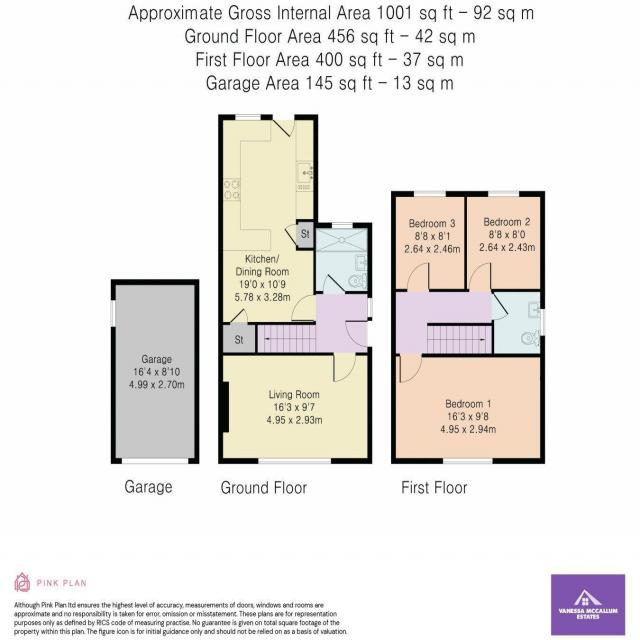DOOR: (344, 319, 372, 348), (332, 352, 357, 383), (399, 353, 423, 383), (468, 262, 492, 292), (406, 262, 430, 292), (291, 294, 316, 322), (271, 114, 295, 138), (491, 293, 509, 321), (322, 273, 346, 294)
ROOM: (218, 114, 319, 326), (218, 352, 373, 464), (391, 353, 546, 464), (464, 191, 545, 292), (391, 191, 467, 292)
WINDOW: (257, 457, 332, 465), (442, 457, 493, 465), (487, 190, 520, 198), (413, 190, 446, 197), (234, 114, 261, 121), (540, 308, 546, 337), (331, 222, 353, 229), (367, 297, 373, 318)
